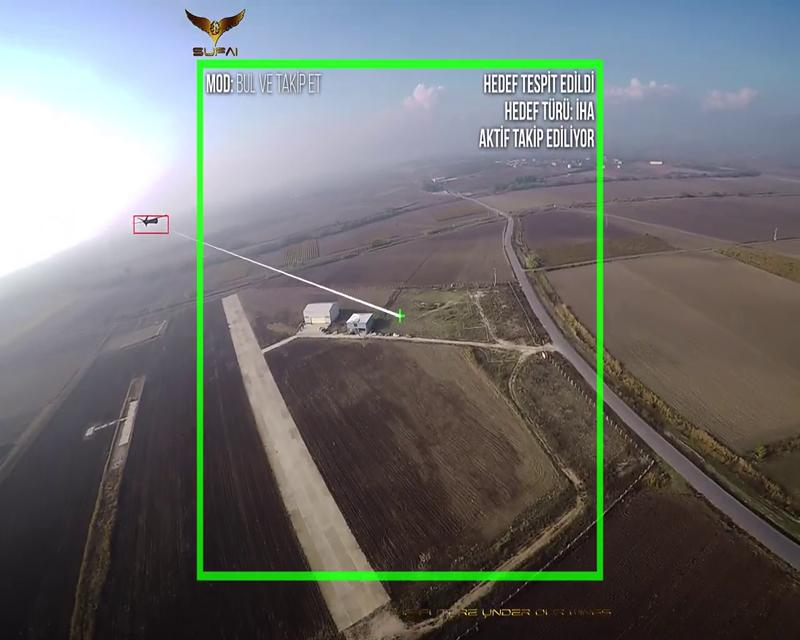UAV: (133, 214, 168, 228)
